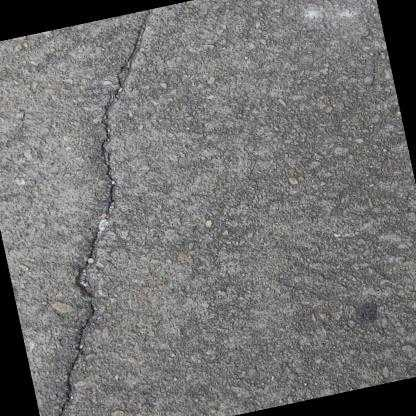crack: (58, 6, 157, 416)
